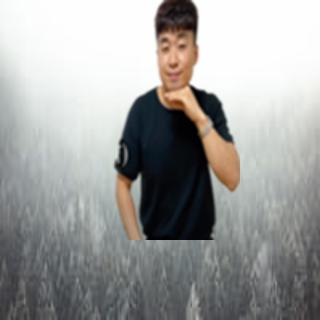Wait: (161, 84, 204, 123)
